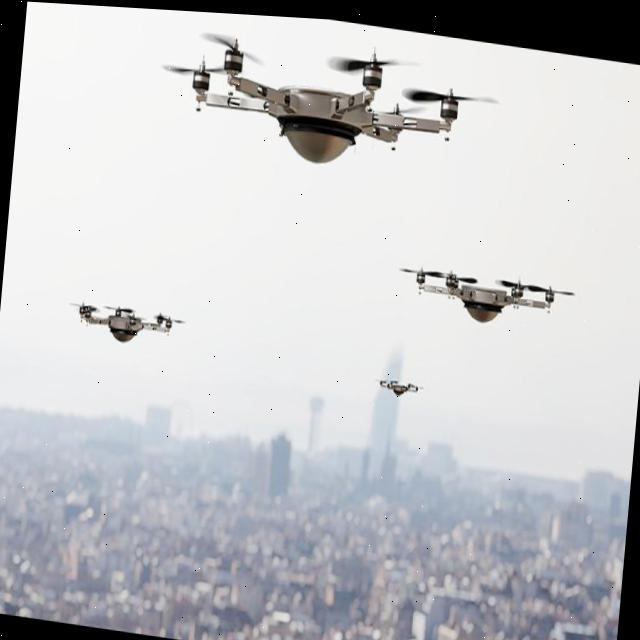drone: (160, 11, 473, 163), (400, 253, 580, 334), (69, 291, 187, 360), (378, 366, 423, 400)
